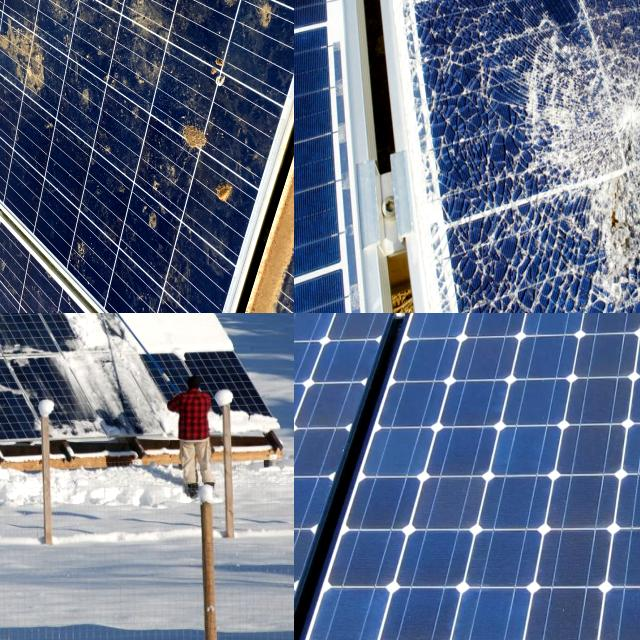bird: (13, 7, 101, 134), (150, 76, 210, 195), (92, 153, 164, 250), (130, 0, 222, 58), (10, 200, 84, 268), (85, 271, 140, 313), (0, 140, 36, 200), (0, 258, 38, 313)
crack: (294, 313, 640, 640)
hotspot: (512, 24, 640, 311)
panel: (44, 357, 176, 430), (0, 376, 87, 452), (101, 313, 233, 354), (28, 313, 130, 352), (213, 387, 265, 435), (0, 341, 26, 431), (0, 404, 16, 457), (0, 313, 37, 326)
